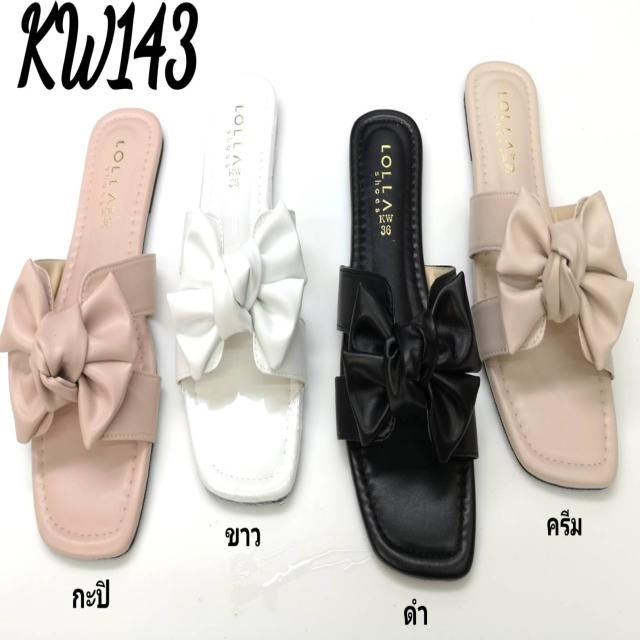black: (337, 112, 473, 570)
cream: (465, 60, 622, 485)
kapi: (32, 108, 171, 566)
white: (176, 70, 306, 508)
